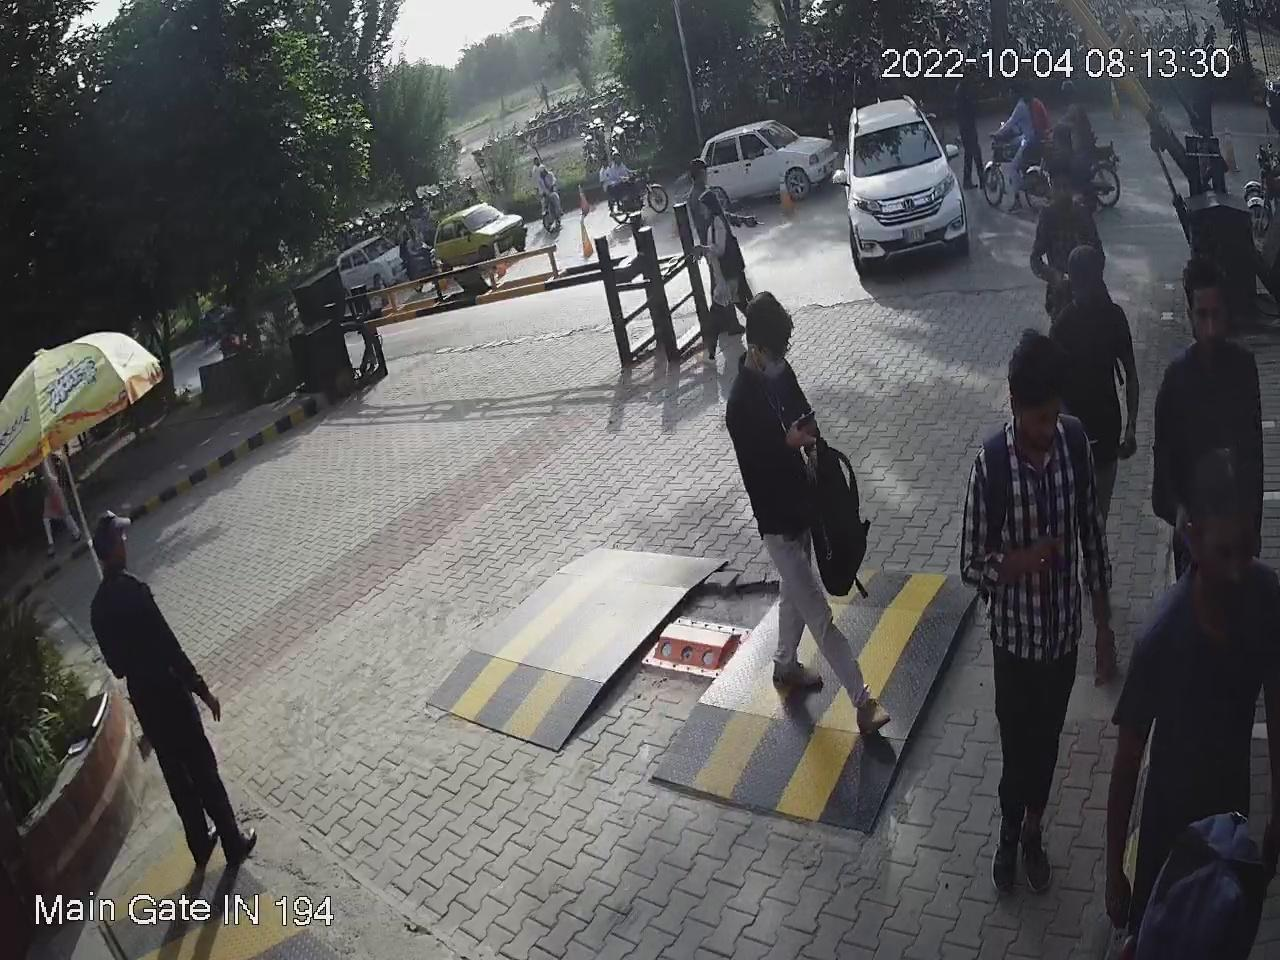windshield: (851, 110, 942, 181)
